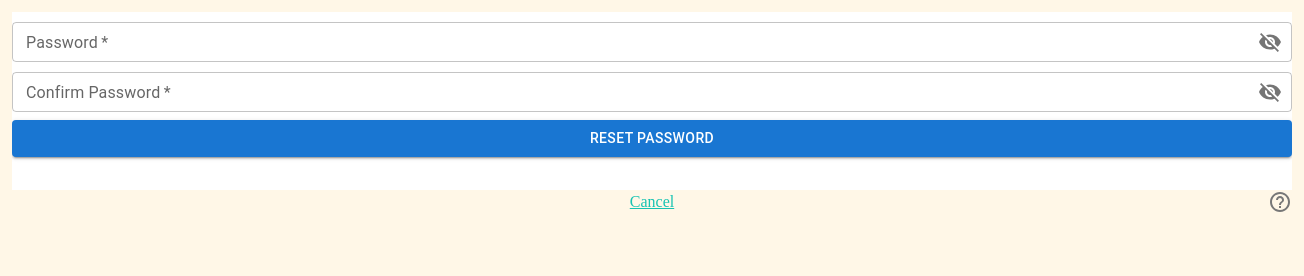
Scenario: PasswordResetForm › shows invalid password
Type "newPassword1!" into the password field labelled "Confirm Password *".
click(627, 92); type("newPassword1!")  # box [12,72,1242,112]
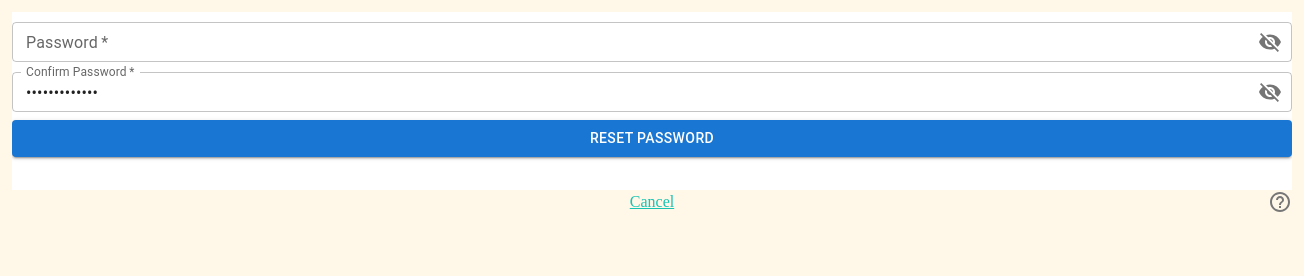
Type "ert" into the password field labelled "Password *".
click(627, 42); type("ert")  # box [12,22,1242,62]
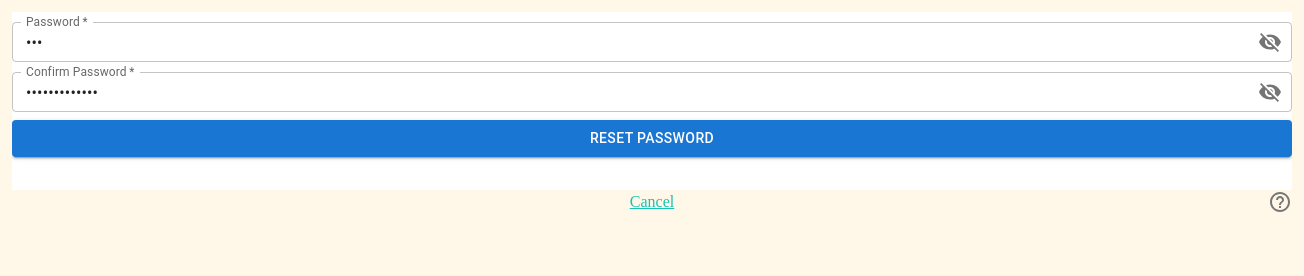
Click the button "Reset Password".
click(652, 138)  # box [12,120,1292,156]
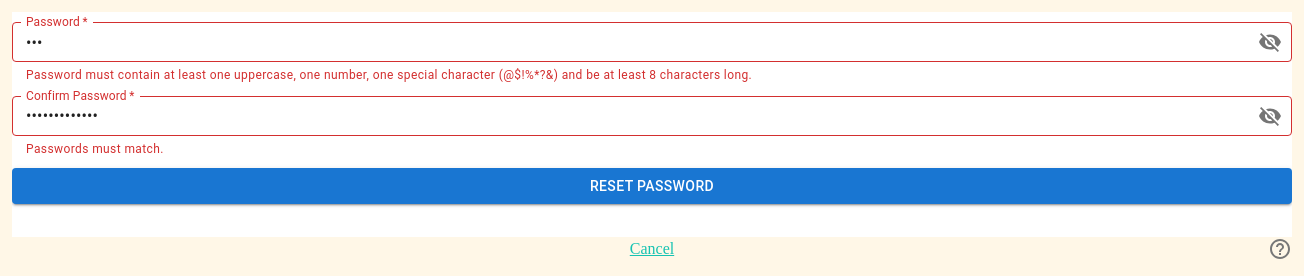
Expected: the text "Password must contain at least one uppercase," is shown, [26,68,752,82]
